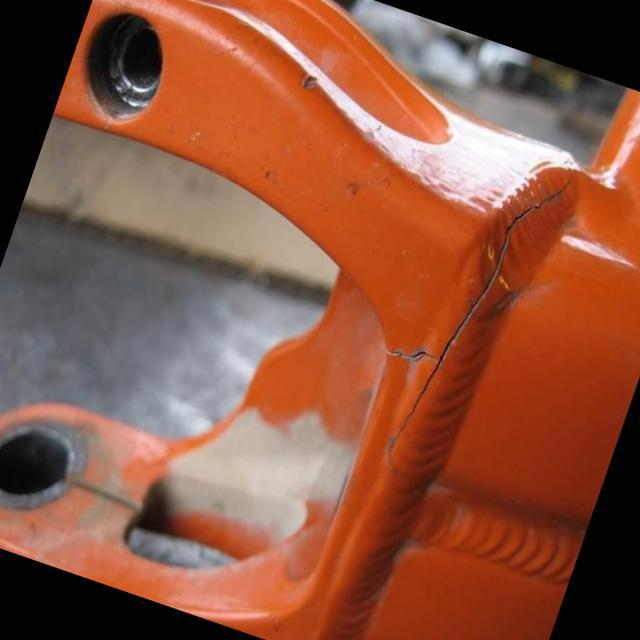defect: (380, 174, 577, 483)
